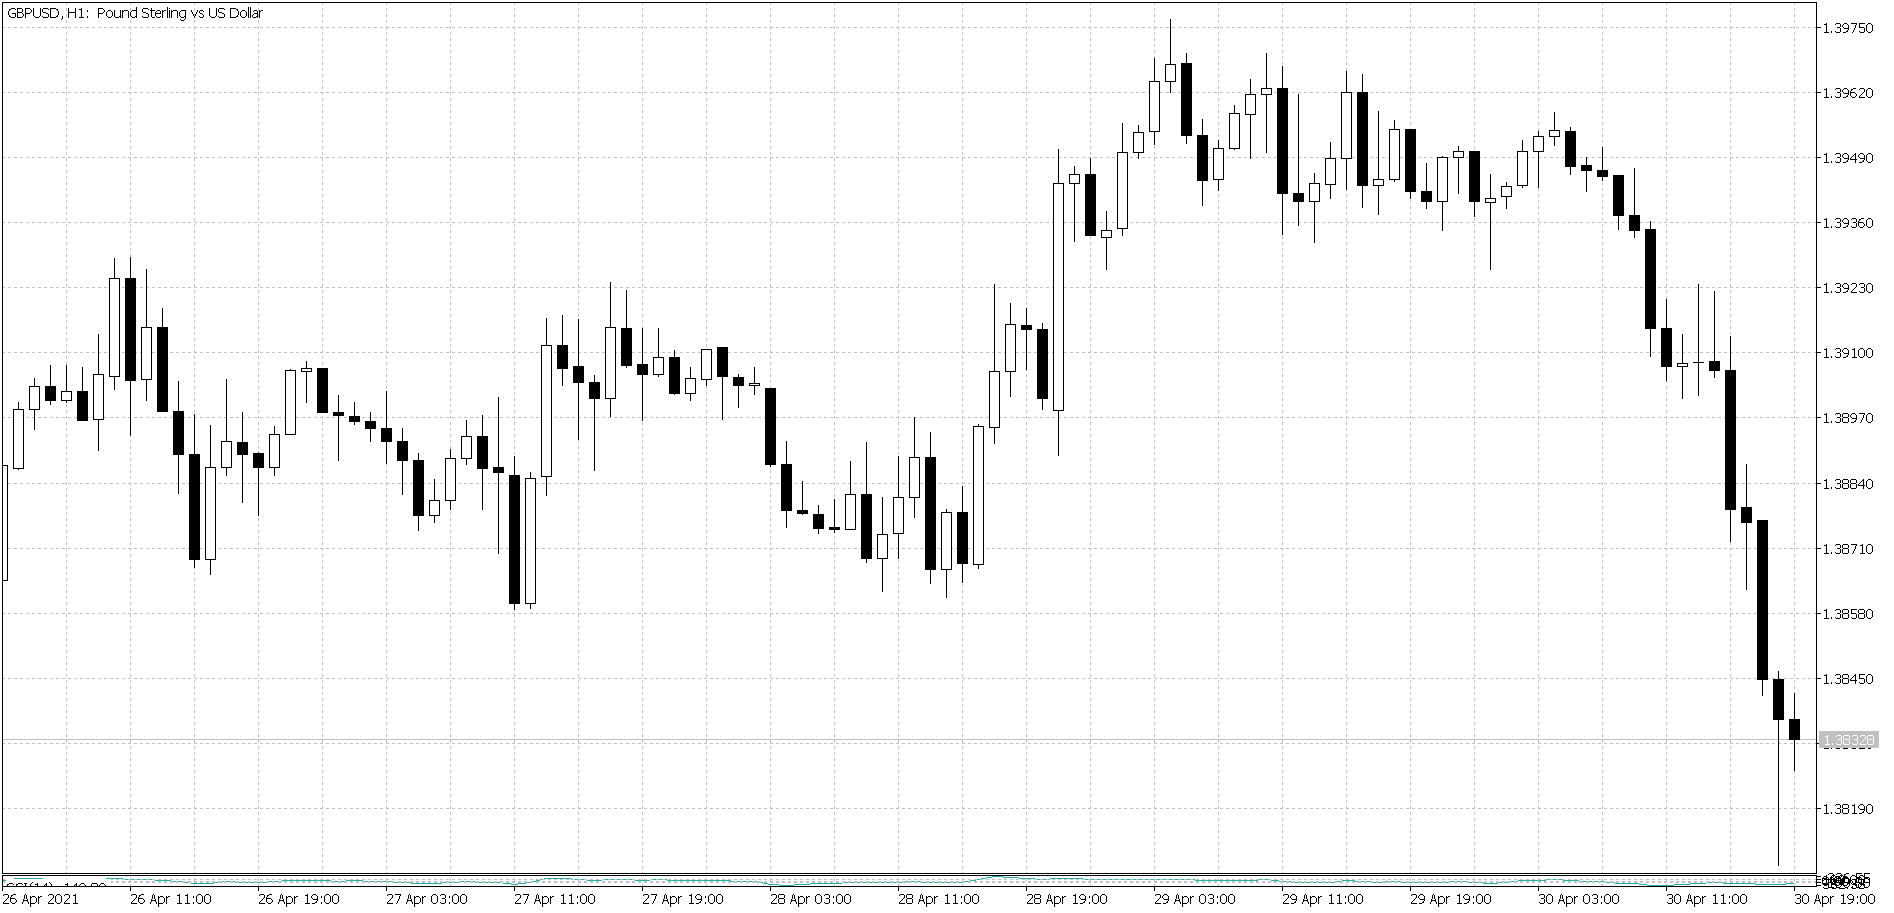3whitesoldiers: (875, 414, 920, 595)
bearishEngulfing: (1340, 82, 1372, 213), (139, 300, 172, 421)
bullishEngulfing: (1035, 156, 1067, 459)
eveningStar: (283, 351, 332, 453), (1434, 136, 1482, 233)
shootingStar: (1706, 283, 1722, 378), (794, 473, 811, 521)
